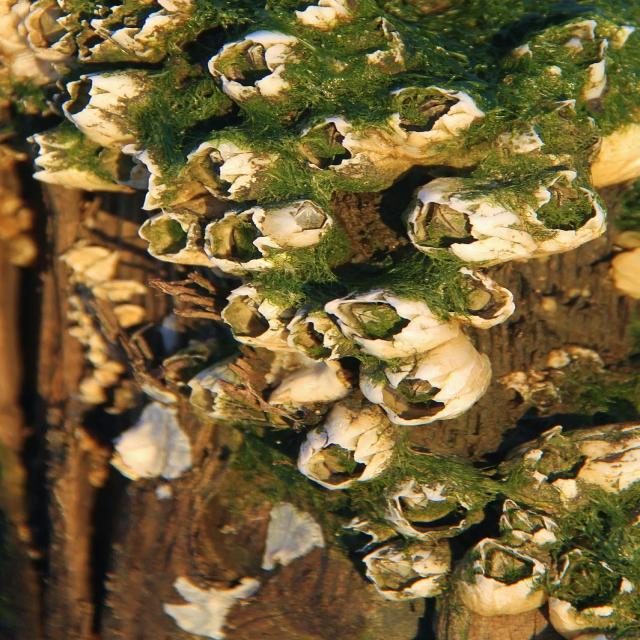barnacles: (489, 11, 632, 111), (397, 171, 527, 262), (353, 354, 498, 434), (316, 280, 448, 357), (511, 425, 626, 512), (276, 418, 397, 499), (181, 128, 297, 206), (375, 466, 489, 542), (203, 29, 313, 104), (60, 63, 157, 146), (14, 127, 135, 192), (386, 78, 488, 153), (519, 175, 610, 258), (542, 555, 636, 630), (207, 284, 301, 358), (291, 120, 391, 184), (88, 0, 193, 58), (432, 271, 524, 336), (201, 213, 291, 279), (467, 550, 550, 621), (360, 546, 456, 607), (133, 210, 213, 280), (496, 499, 574, 558)
